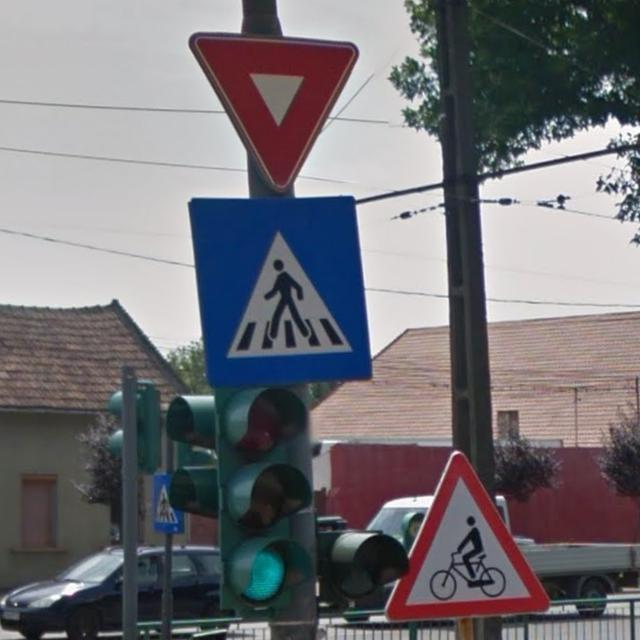info_crosswalk: (191, 201, 374, 384)
prio_give_way: (186, 26, 359, 194)
